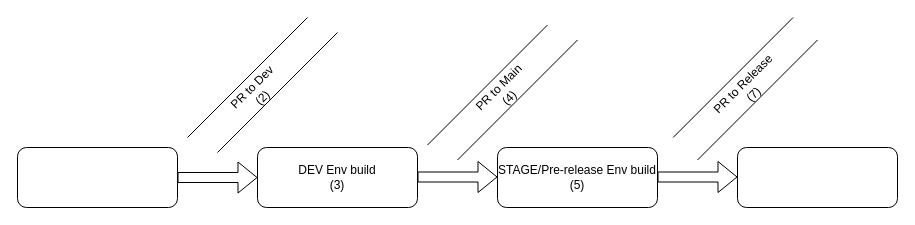
This 915x225 diagram has some shape labels left out. The centre of each missing label's shape, as x and y in pixels:
Code Commit (Add new feature/Fix a bug) (1): point 97,177
Release Env build (8): point 817,177
